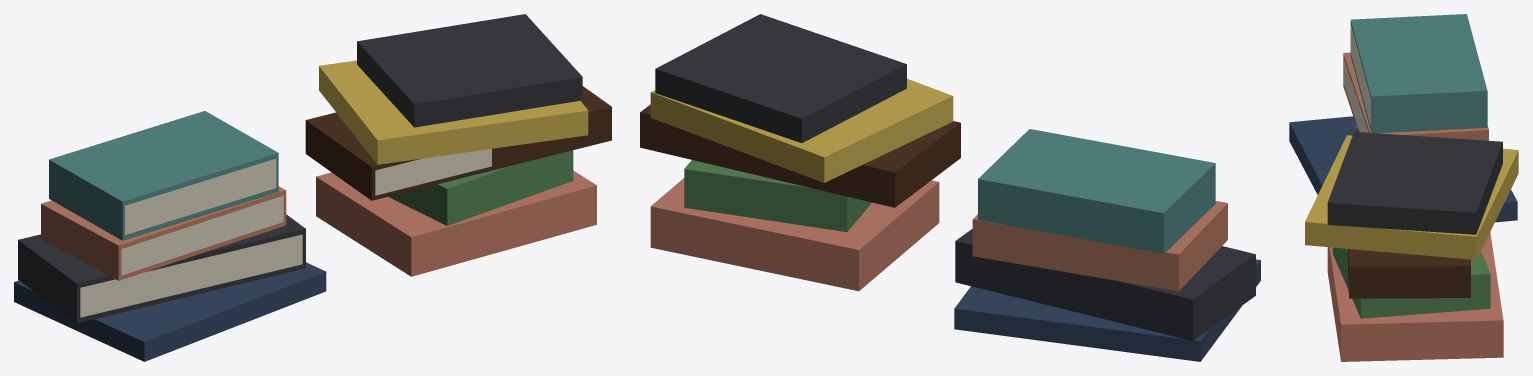
Rendered from book-stack-14.glb.
3 views of the same model, side by side, from view 1: azimuth 30°, elevation 25°; view 2: azimuth 150°, elevation 25°; view 3: azimuth 270°, elevation 25° (orthographic). The views are drawn at different scales.
Parts seen in each view (by area): view 1: book_stack_14; view 2: book_stack_14; view 3: book_stack_14.
Part boxes in pixels (x1=…): book_stack_14: x1=14, y1=14, x2=611, y2=361; book_stack_14: x1=640, y1=14, x2=1260, y2=361; book_stack_14: x1=1289, y1=14, x2=1518, y2=361.
Bounding box in the file's own units: 0.6372 × 0.1799 × 0.2507.
